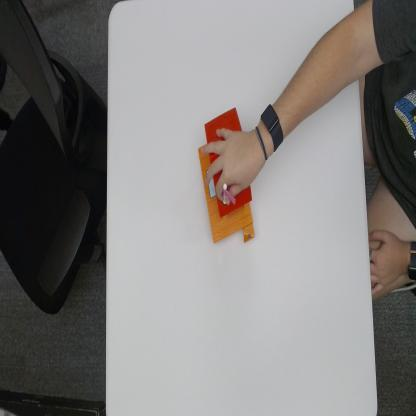Arm: (281, 1, 377, 128)
Hand: (203, 127, 271, 203)
House: (197, 106, 255, 244)
